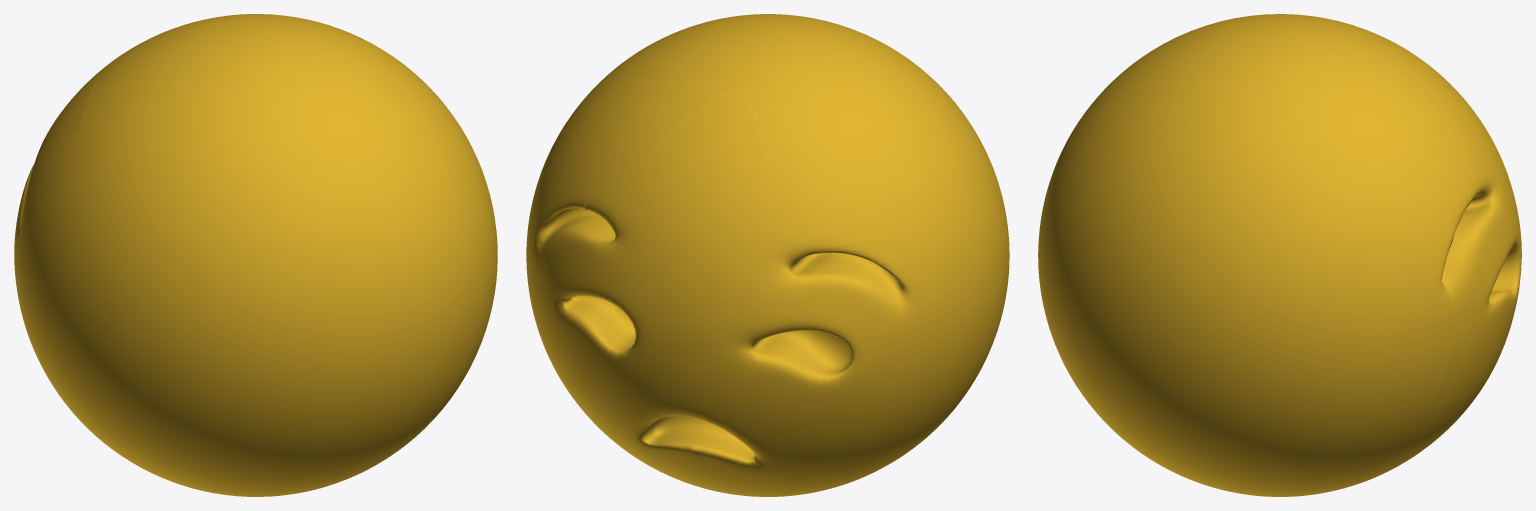
File: dissapointed 3DS.glb
3 renders of one model, left to right at view 1: azimuth 30°, elevation 25°; view 2: azimuth 150°, elevation 25°; view 3: azimuth 270°, elevation 25°, orthographic.
Visible parts, largest first — view 1: ZBrush_def; view 2: ZBrush_def; view 3: ZBrush_def.
Boxes of the visible parts, x1,y1,x2,y2 form: ZBrush_def: (14, 14, 497, 496); ZBrush_def: (526, 14, 1009, 496); ZBrush_def: (1038, 14, 1521, 496).
Size of the model in its own units: 0.4849 by 0.4847 by 0.4855.
